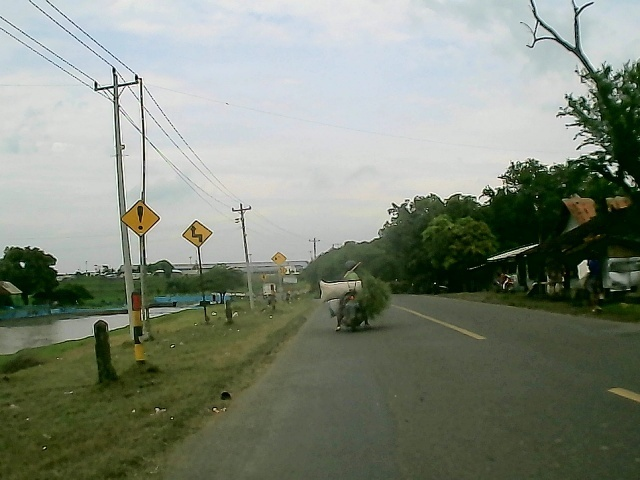Hati-hati: (119, 199, 163, 239)
Tikungan garda pertama kiri: (182, 219, 214, 249)
